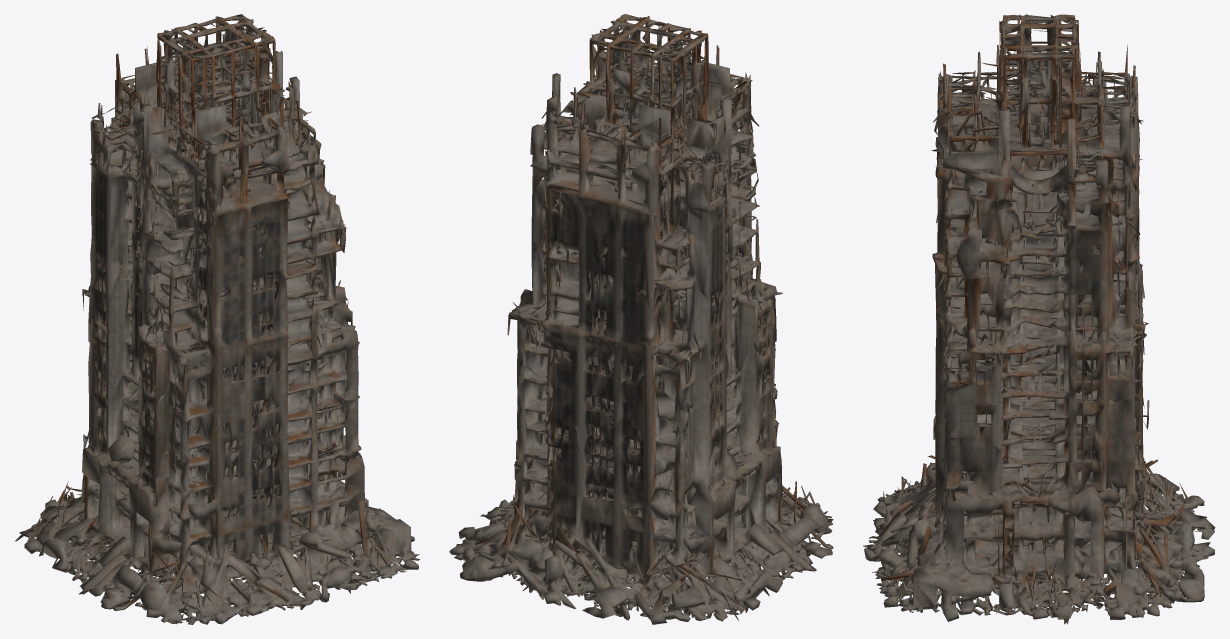
File: skyscraper.glb
3 views of the same model, side by side, from view 1: azimuth 30°, elevation 25°; view 2: azimuth 150°, elevation 25°; view 3: azimuth 270°, elevation 25° (orthographic).
Parts seen in each view (by area): view 1: Mesh_0; view 2: Mesh_0; view 3: Mesh_0.
Boxes of the visible parts, x1,y1,x2,y2 form: Mesh_0: [15, 14, 419, 624]; Mesh_0: [449, 14, 833, 624]; Mesh_0: [863, 14, 1215, 624].
Bounding box in the file's own units: 1.21 × 1.9 × 1.18.
1 material, 1 textured.
